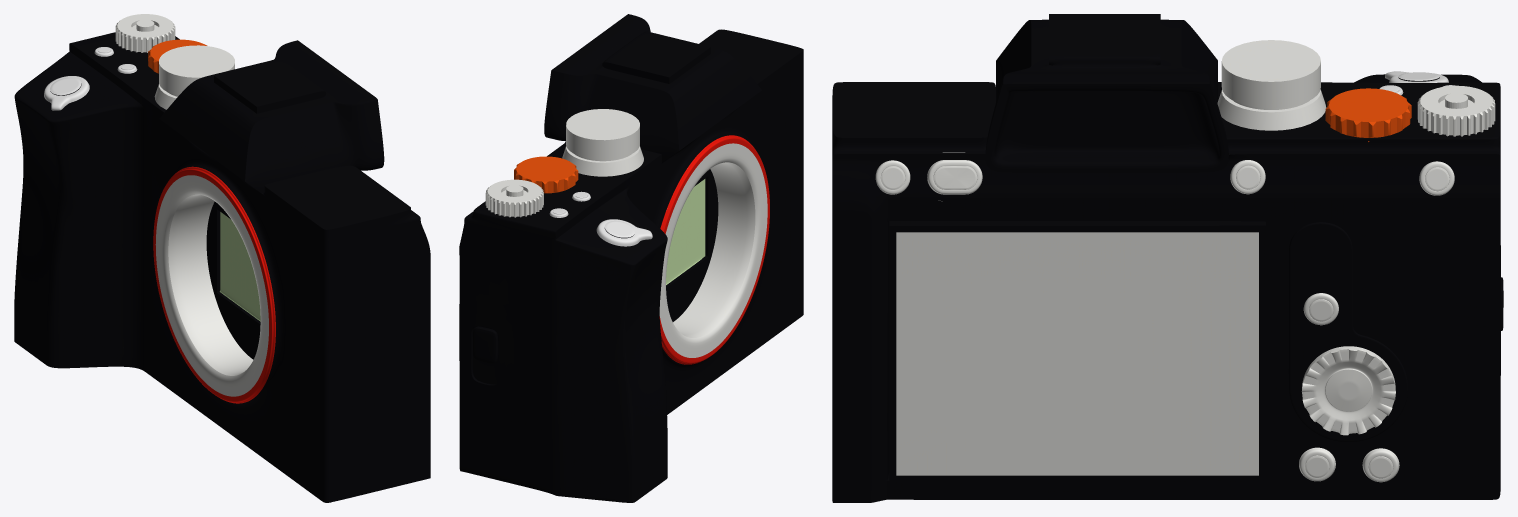
File: remodel-knobs-transformed.glb
3 renders of one model, left to right at view 1: azimuth 30°, elevation 25°; view 2: azimuth 150°, elevation 25°; view 3: azimuth 270°, elevation 25°, orthographic. The views are drawn at different scales.
Parts seen in each view (by area): view 1: Cam, ModeKnob, Knob, Circle.006, Idk; view 2: Cam, ModeKnob, Knob, Idk, Circle.006; view 3: Cam, Display.001, Detail, ModeKnob, IsoButton, Idk, Knob, Circle.005, Circle.010, Circle.009, Circle.003, Circle.001 (+2 smaller).
Part boxes in pixels (x1,y1,x2,y2): Cam: [14, 32, 430, 502]; ModeKnob: [154, 45, 234, 109]; Knob: [115, 14, 175, 52]; Circle.006: [44, 76, 89, 110]; Idk: [148, 39, 207, 73]; Cam: [459, 14, 803, 502]; ModeKnob: [562, 109, 643, 176]; Knob: [485, 179, 543, 217]; Idk: [514, 156, 578, 193]; Circle.006: [596, 219, 652, 246]; Cam: [832, 14, 1503, 502]; Display.001: [889, 221, 1265, 482]; Detail: [1288, 222, 1407, 441]; ModeKnob: [1217, 40, 1326, 130]; IsoButton: [1301, 346, 1395, 435]; Idk: [1325, 88, 1411, 141]; Knob: [1417, 85, 1495, 136]; Circle.005: [927, 152, 982, 201]; Circle.010: [1362, 448, 1399, 482]; Circle.009: [1299, 447, 1335, 481]; Circle.003: [1419, 161, 1454, 195]; Circle.001: [1230, 160, 1265, 194].
Bounding box in the file's own units: 0.0829 × 0.1426 × 0.2009.
Materials: 1 (1 with a texture image).
